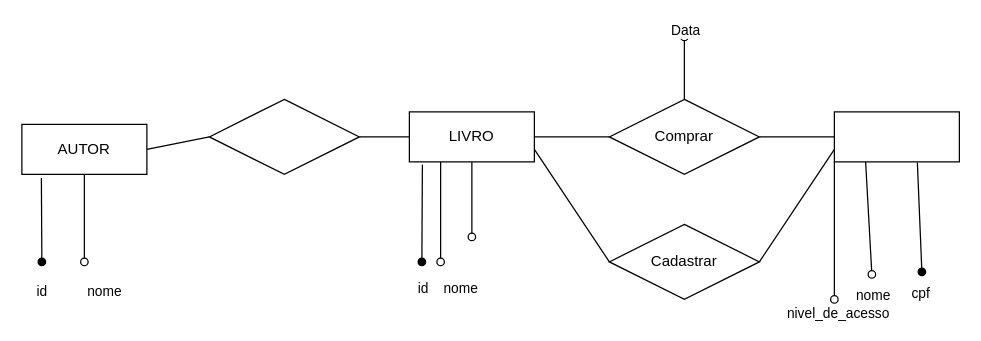
Some shapes in this 981 by 341 pixel diagram are drawn without their labels. The box of each missing label's shape, as (x1, y1, x2, y2) in pixels:
Autoria: (208, 98, 359, 174)
USUARIO: (833, 111, 959, 162)
